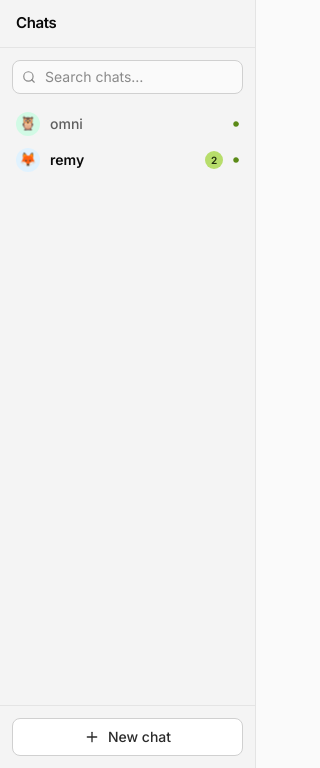
it: PrincipalSidebar › messages a person from New chat
The width and height of the screenshot is (320, 768).
Click the button "New chat": {"x": 128, "y": 737} [12,718,243,756]
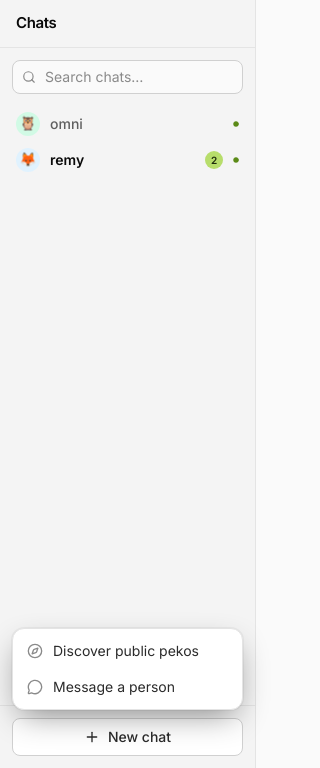
Click the menu item "Message a person": {"x": 128, "y": 687} [17,669,238,705]
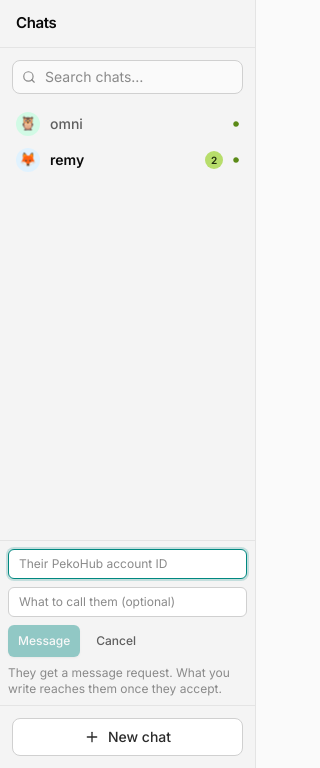
In the field with test id "person-dm-account": {"x": 128, "y": 564} [8,549,247,579], type " user:hub:bob-id "
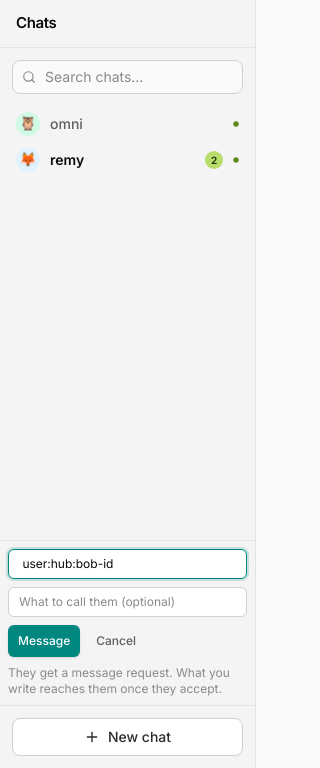
In the field with test id "person-dm-name": {"x": 128, "y": 602} [8,587,247,617], type "Bob"
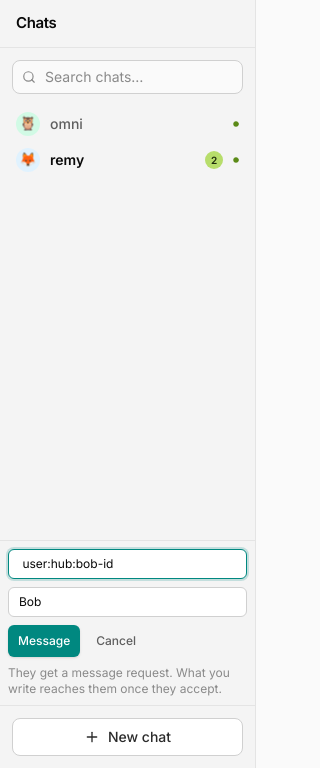
Click the button "Message": {"x": 44, "y": 641} [8,625,80,657]
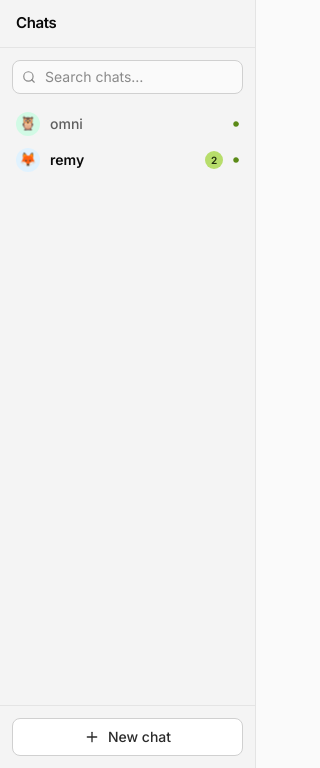
Check: the form with test id "person-dm-form" is gone
